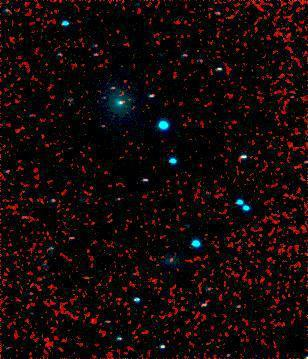star: (105, 91, 135, 121)
